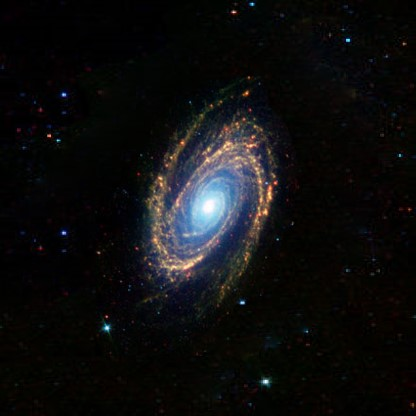Messier 81: (131, 62, 286, 325)
